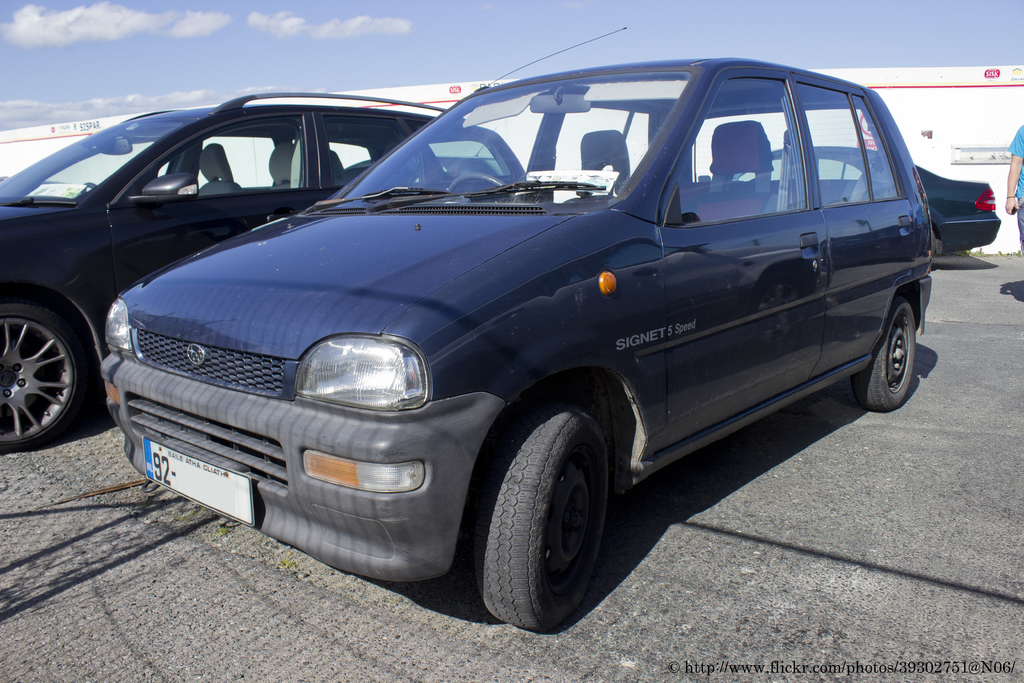mobil: (93, 53, 936, 651)
